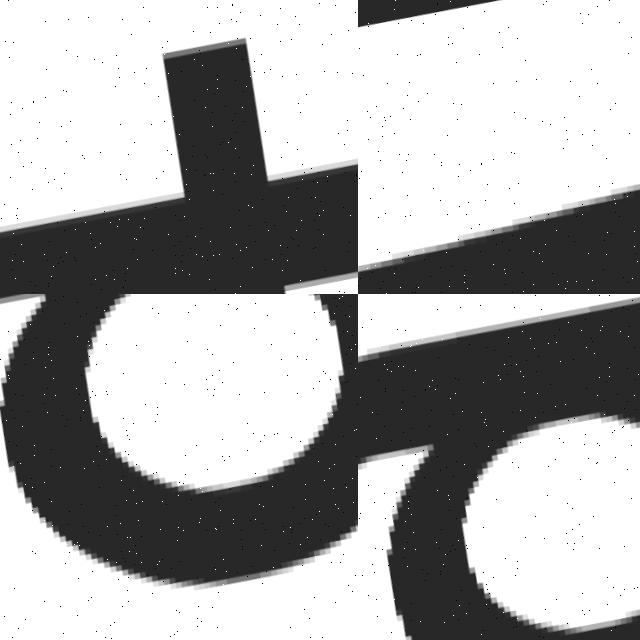1: (358, 98, 640, 294)
G: (358, 294, 640, 640)
Q: (0, 294, 358, 640)
T: (0, 0, 358, 294)
